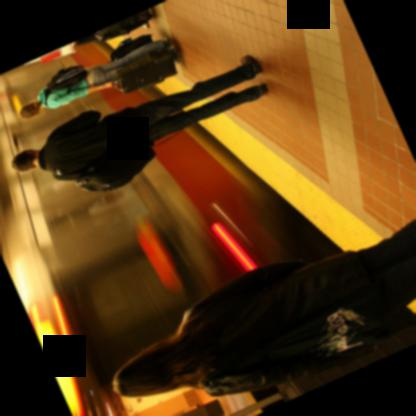backpack: (269, 289, 389, 379), (46, 141, 156, 191), (43, 63, 87, 106)
handbag: (270, 302, 376, 378), (41, 43, 77, 63)
suitcase: (110, 44, 179, 92), (93, 7, 154, 41), (106, 31, 153, 62)
